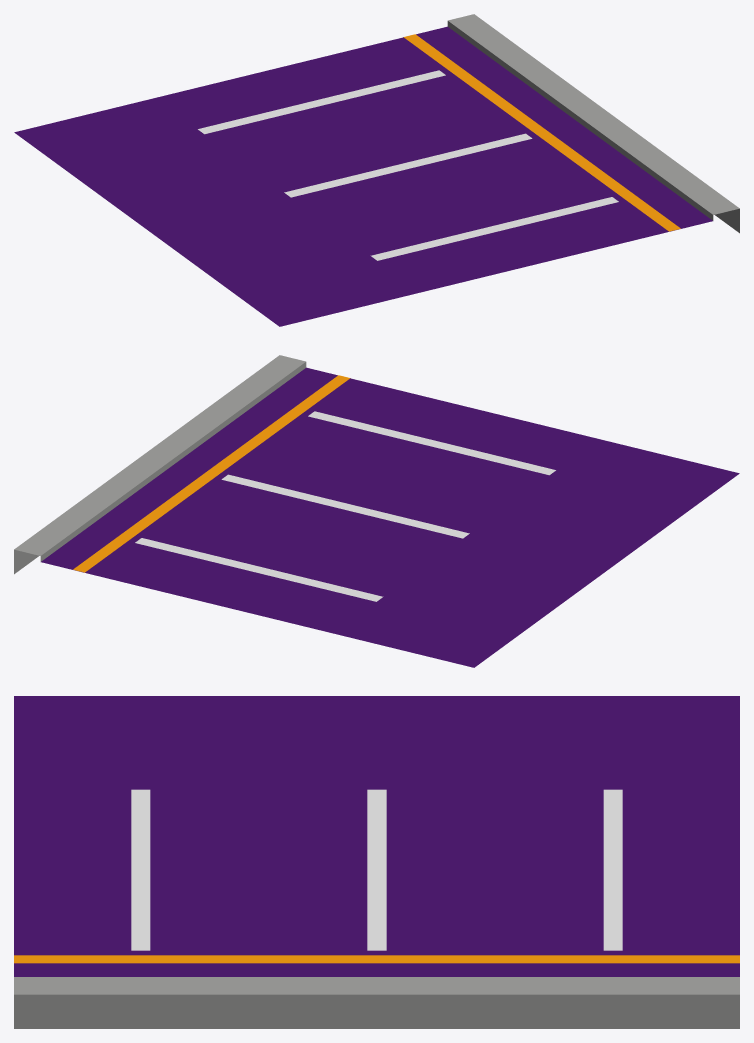
The model's file is ParkingRoad_C_3.fbx.
3 renders of one model, top to bottom at view 1: azimuth 30°, elevation 25°; view 2: azimuth 150°, elevation 25°; view 3: azimuth 270°, elevation 25°, orthographic. The views are drawn at different scales.
Parts seen in each view (by area): view 1: ParkingRoad_C_3; view 2: ParkingRoad_C_3; view 3: ParkingRoad_C_3.
Boxes of the visible parts, x1,y1,x2,y2 form: ParkingRoad_C_3: [14, 14, 739, 326]; ParkingRoad_C_3: [14, 355, 739, 667]; ParkingRoad_C_3: [14, 696, 739, 1028].
Size of the model in its own units: 800 by 41.48 by 800.
